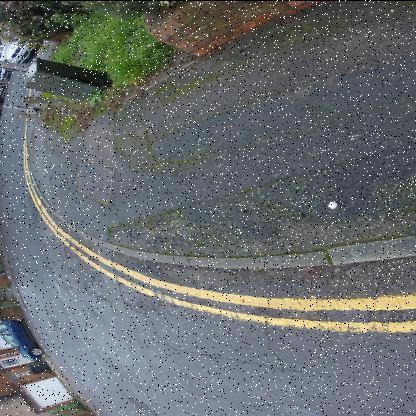metal: (328, 200, 338, 208)
